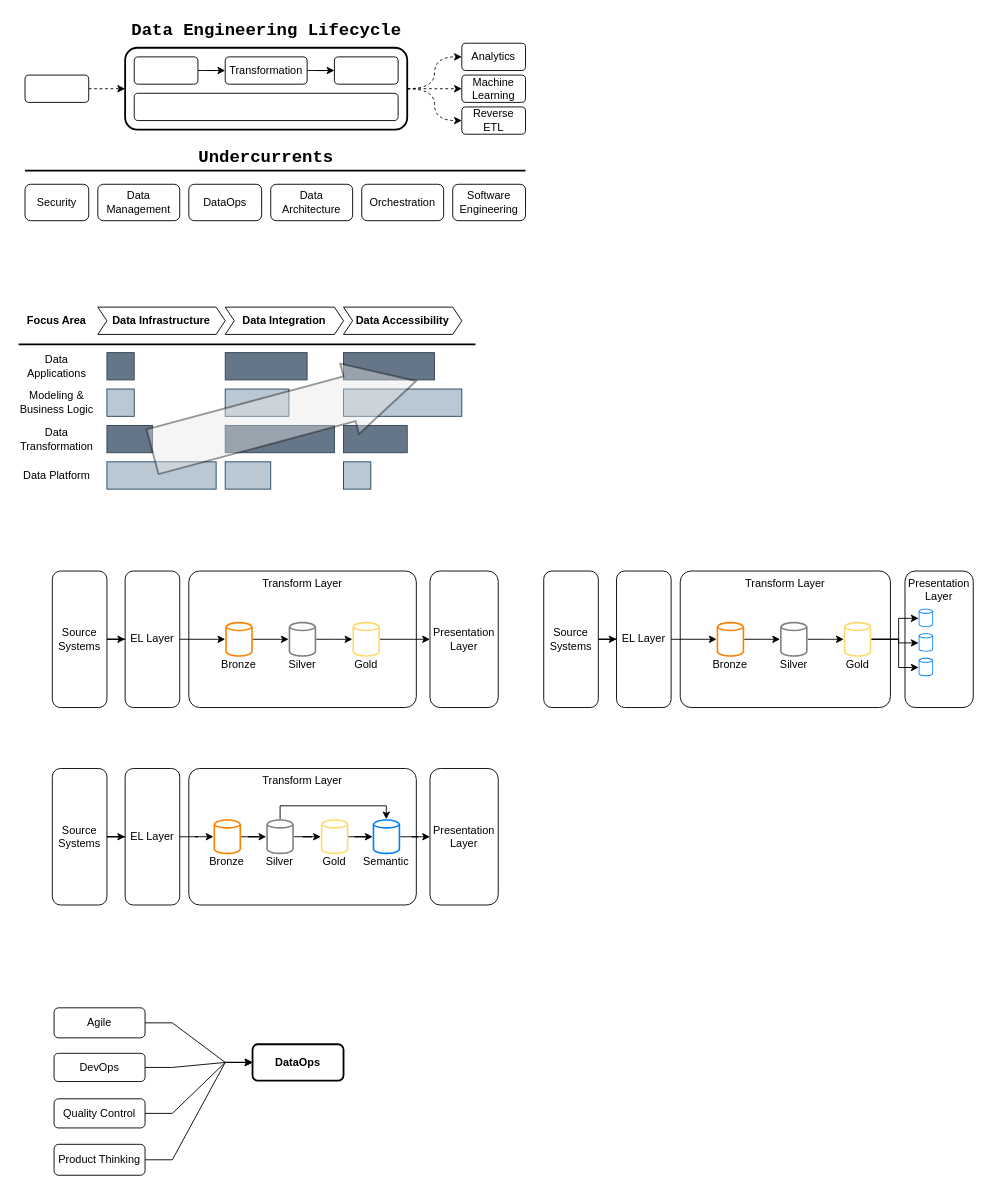
This 989x1191 diagram has some shape labels left out. Each missing label, with the centre of its shape:
Generation: (56,88)
Ingestion: (165,70)
Maturity: (284,415)
Serving: (366,70)
Storage: (265,106)
